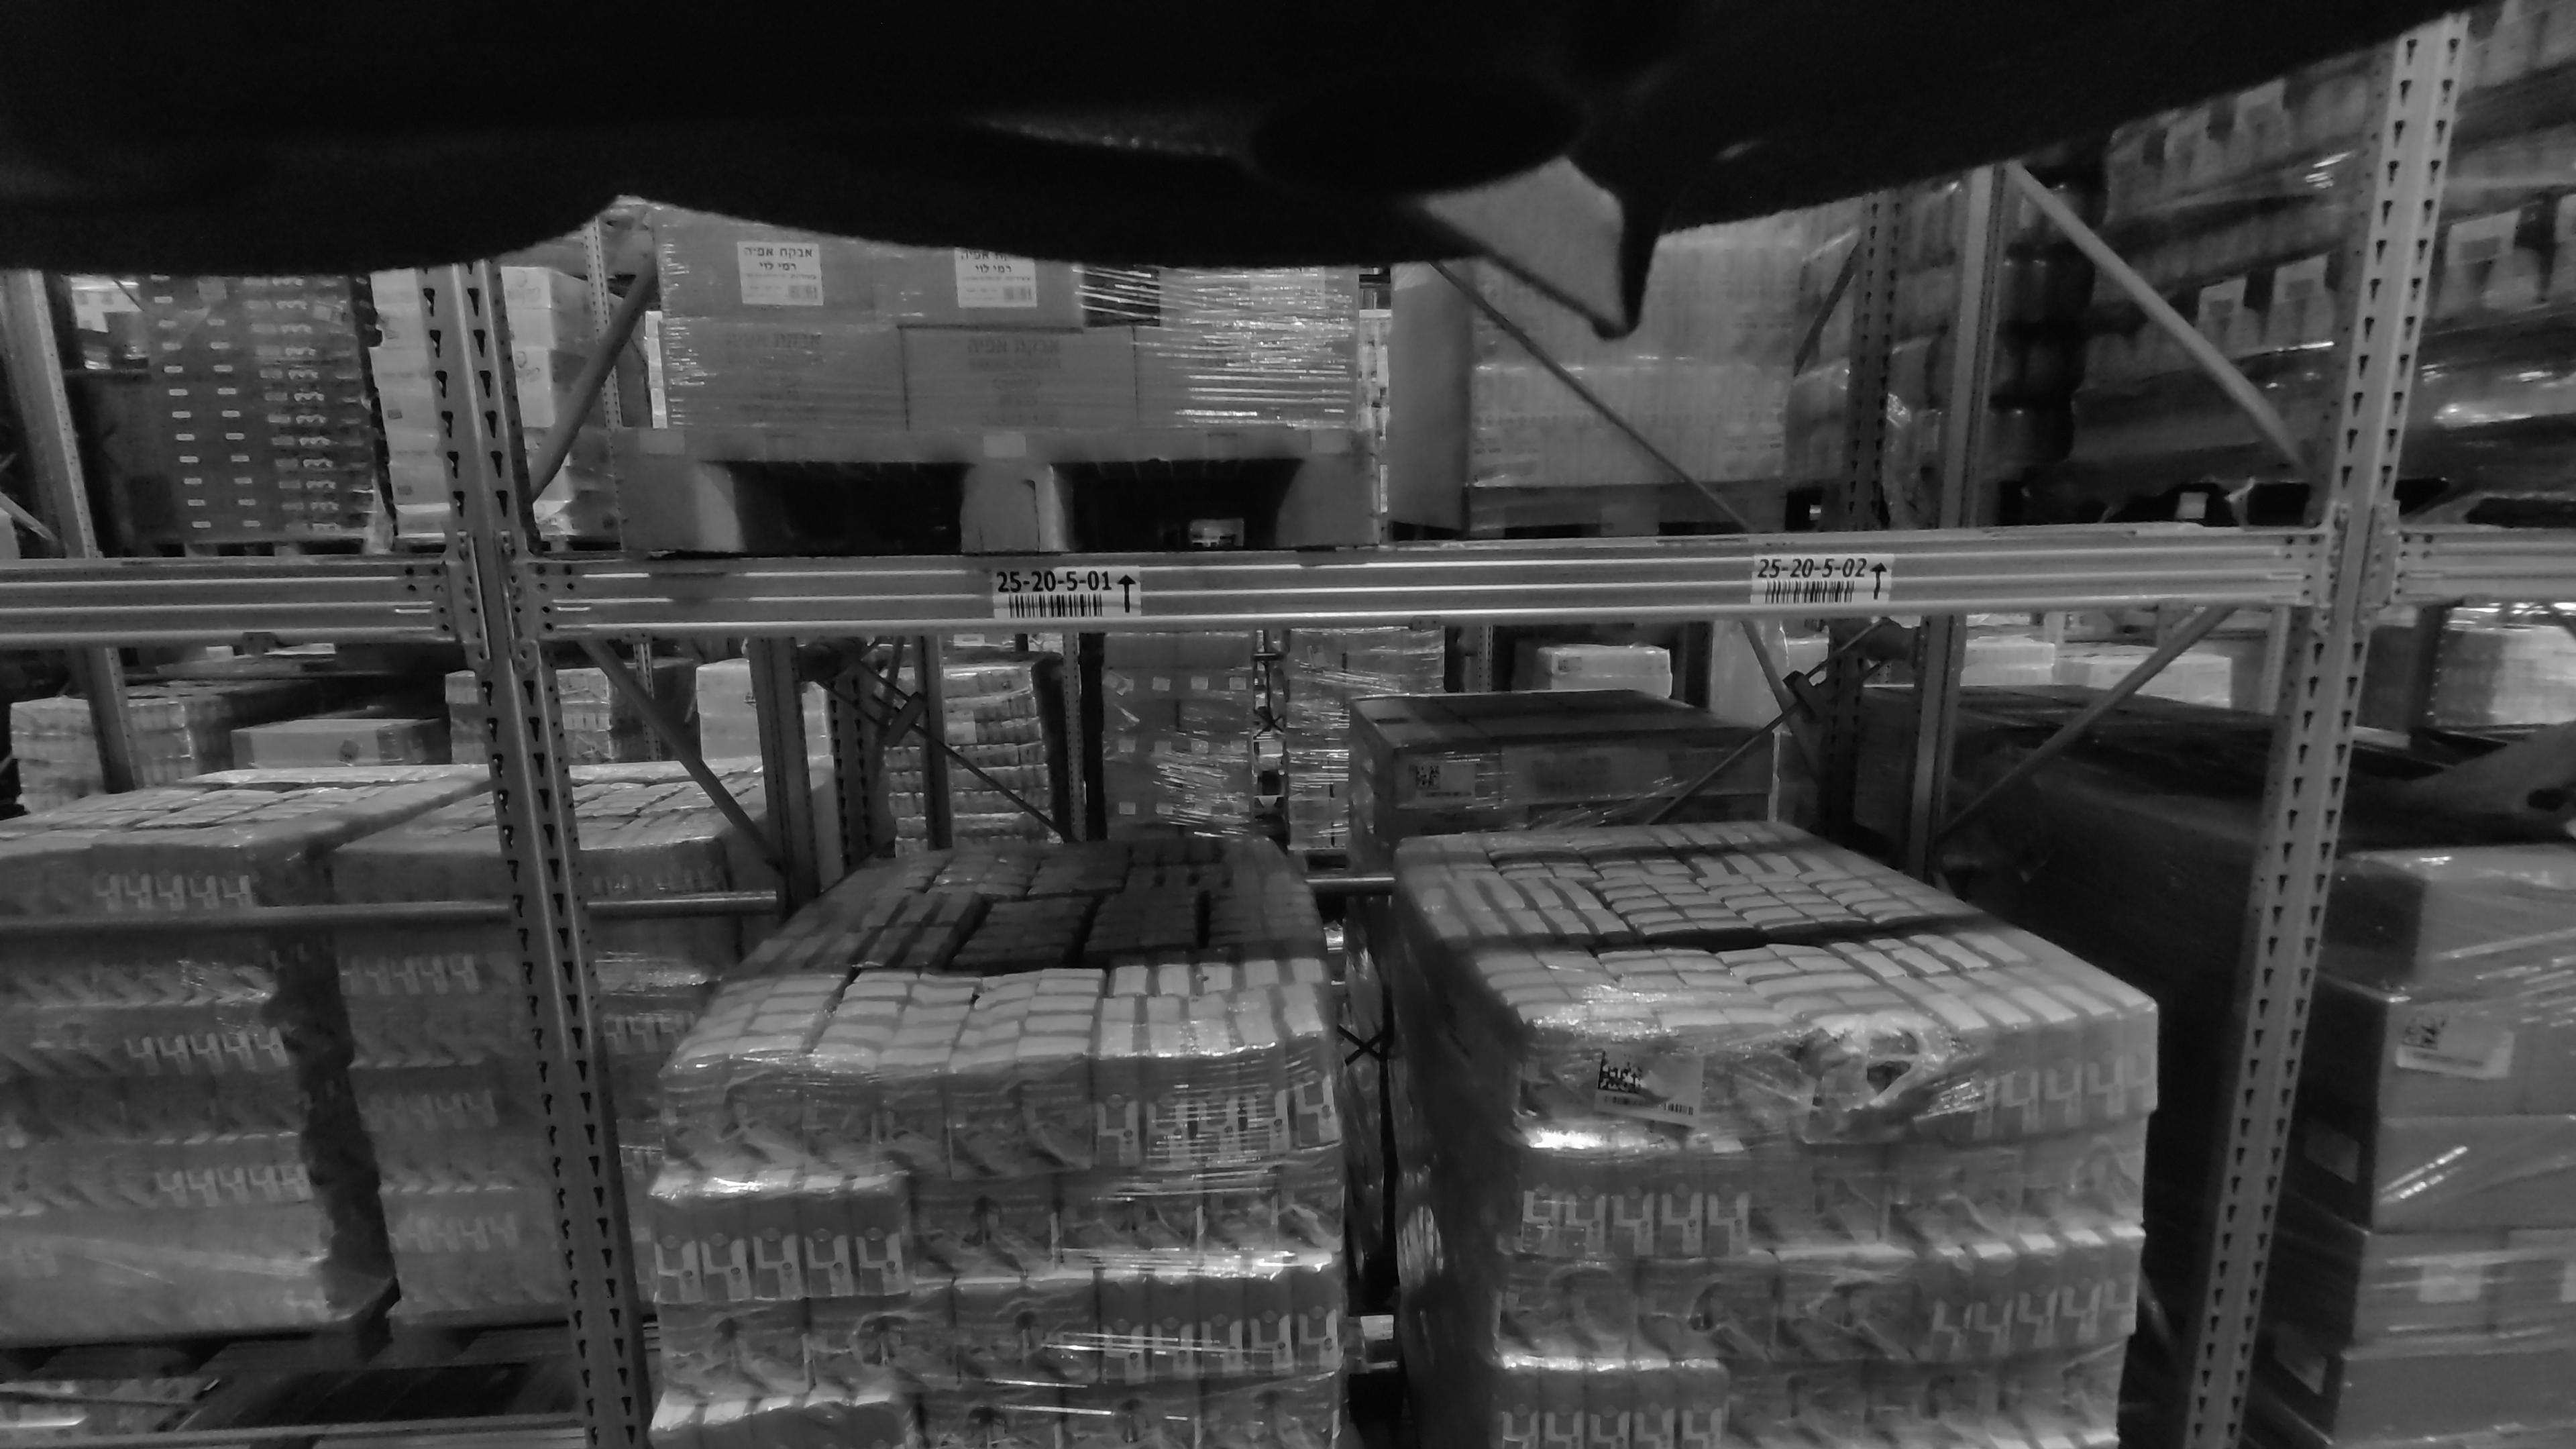empty-shelf: (0, 637, 511, 1449), (1458, 145, 2247, 534), (0, 294, 426, 579)
